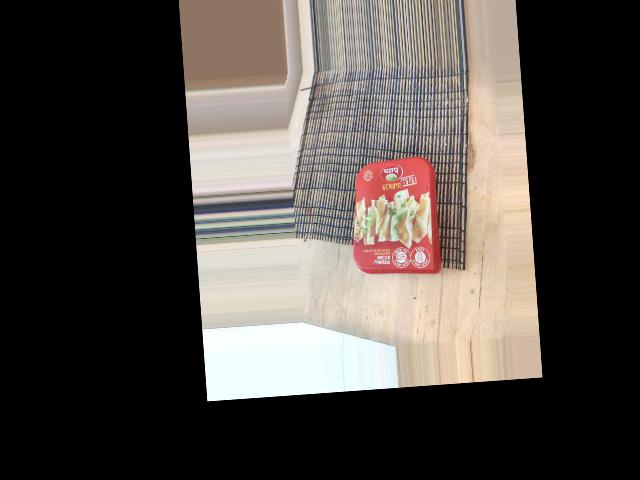cheese: (276, 120, 414, 217)
